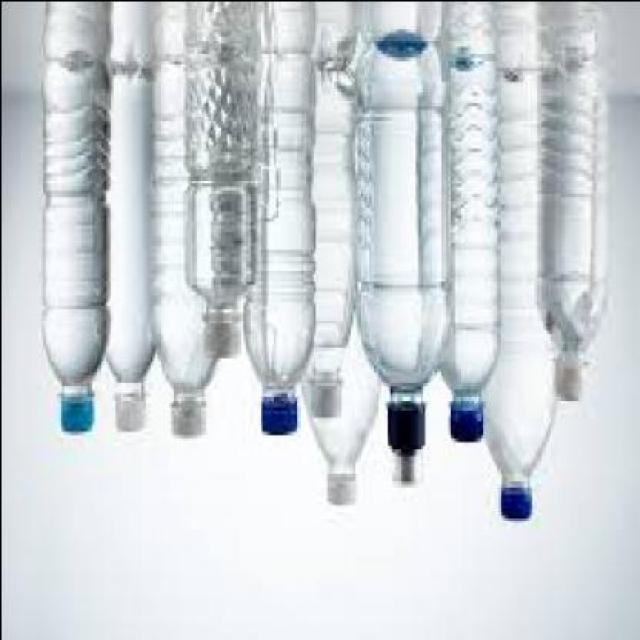PLASTIC: (351, 42, 440, 486), (477, 66, 554, 525), (144, 59, 221, 441), (239, 49, 310, 437), (181, 45, 265, 364), (530, 46, 604, 406), (39, 56, 107, 433), (433, 45, 496, 444), (97, 63, 154, 434), (302, 66, 355, 420), (300, 328, 377, 507), (384, 399, 421, 486), (549, 367, 591, 405), (256, 398, 293, 437), (446, 402, 480, 444), (200, 322, 234, 364), (54, 399, 88, 433), (305, 386, 338, 420), (494, 490, 528, 521), (111, 399, 142, 433), (165, 409, 202, 437), (319, 479, 352, 510)
